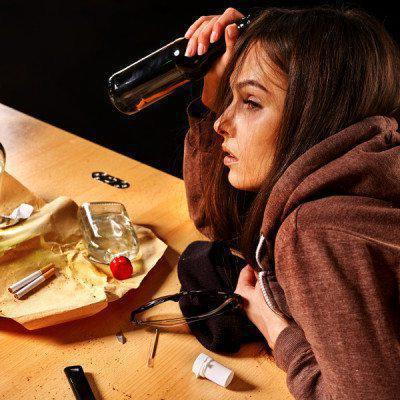Drunk: (205, 55, 280, 183)
